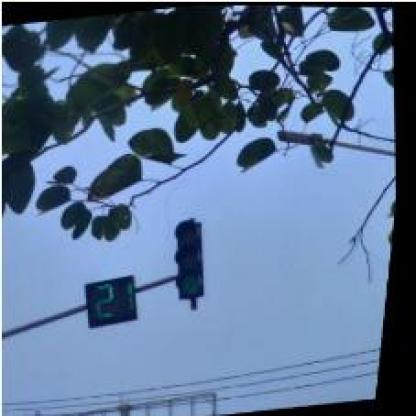green: (172, 218, 216, 299)
